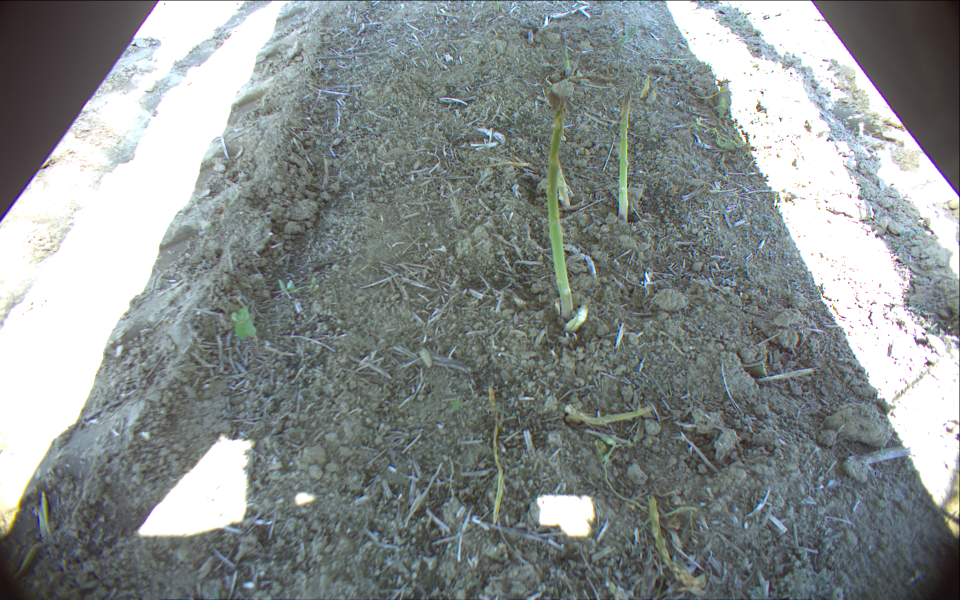aspa: (545, 89, 577, 319), (647, 496, 705, 589), (615, 89, 633, 221), (562, 405, 655, 427), (492, 411, 505, 524), (562, 306, 589, 332), (560, 29, 572, 75), (528, 28, 534, 45)
